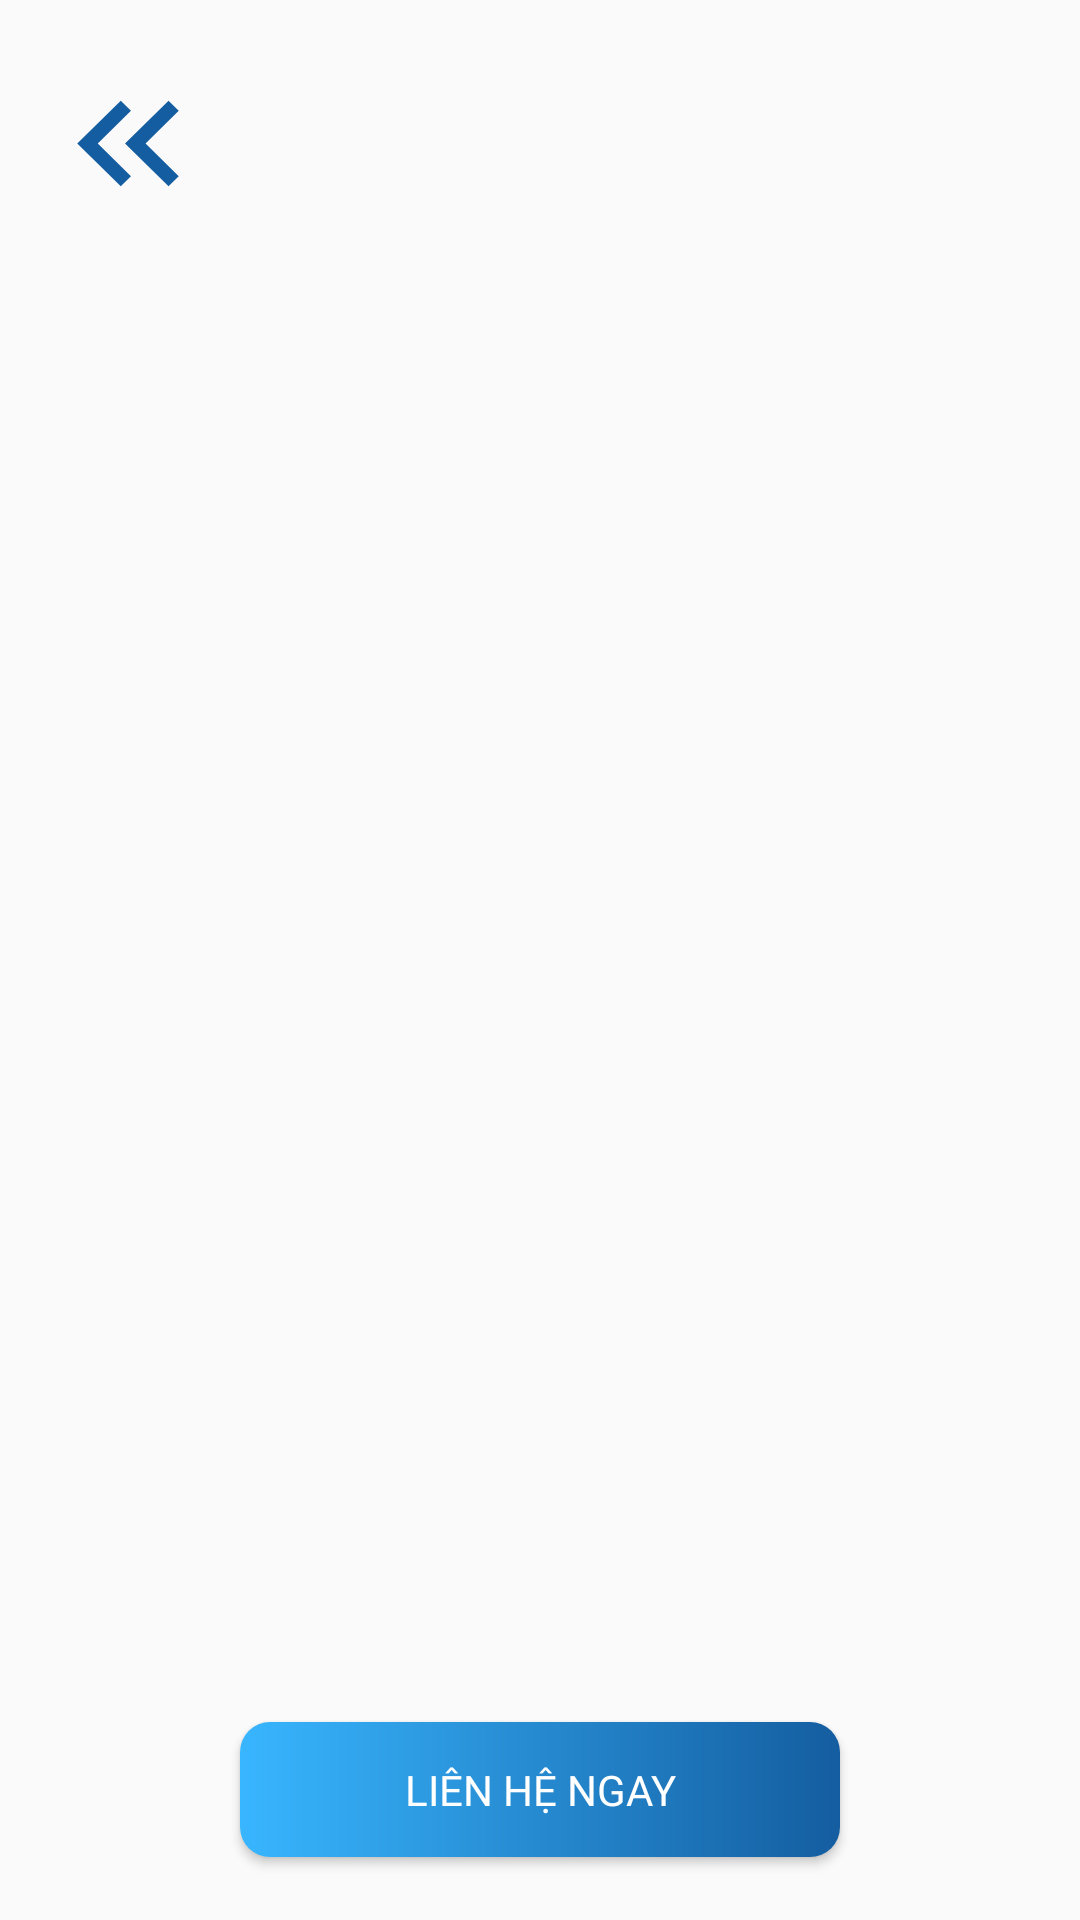

Where icons sit on this 1080x1920 app screen, as (x1, y1, x2, y2):
double arrow left: (77, 101, 179, 186)
